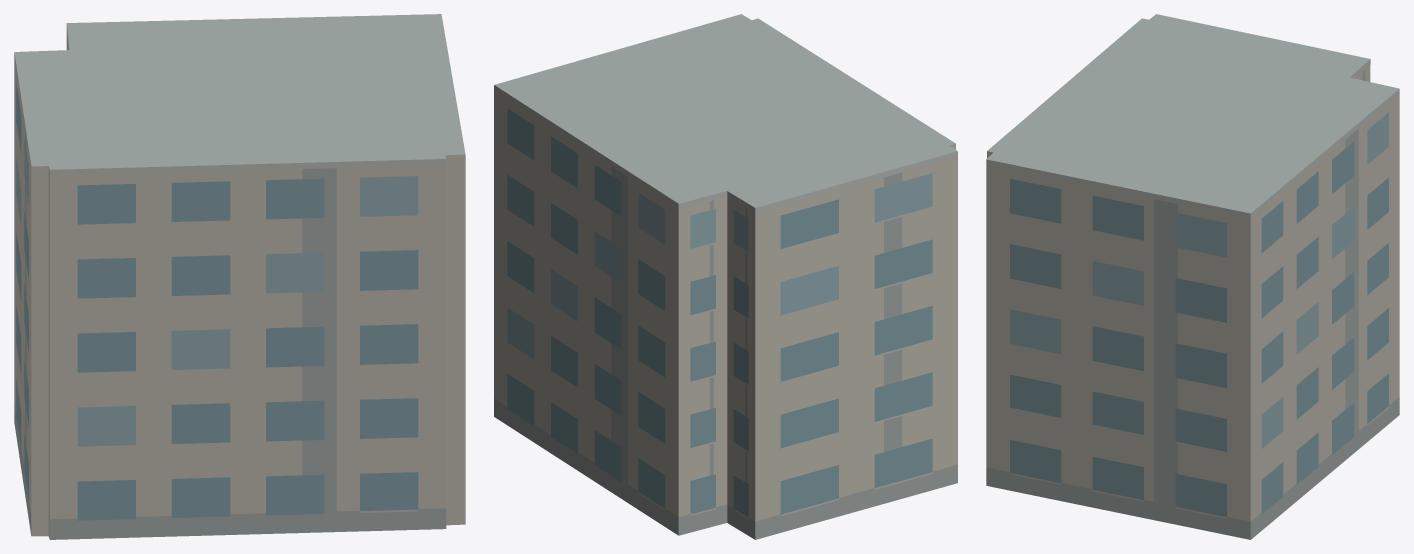
File: survey-upis-32973182.glb
The picture shows the model from 3 angles, left to right: view 1: azimuth 30°, elevation 25°; view 2: azimuth 150°, elevation 25°; view 3: azimuth 270°, elevation 25°; orthographic projection. The views are drawn at different scales.
Visible parts, largest first — view 1: survey-upis-32973182.tmp; view 2: survey-upis-32973182.tmp; view 3: survey-upis-32973182.tmp.
Part boxes in pixels (box(x1,y1,x2,y2)): survey-upis-32973182.tmp: box(14, 14, 465, 539); survey-upis-32973182.tmp: box(494, 14, 957, 539); survey-upis-32973182.tmp: box(986, 14, 1399, 539).
Size of the model in its own units: 18.76 by 14.3 by 16.42.
